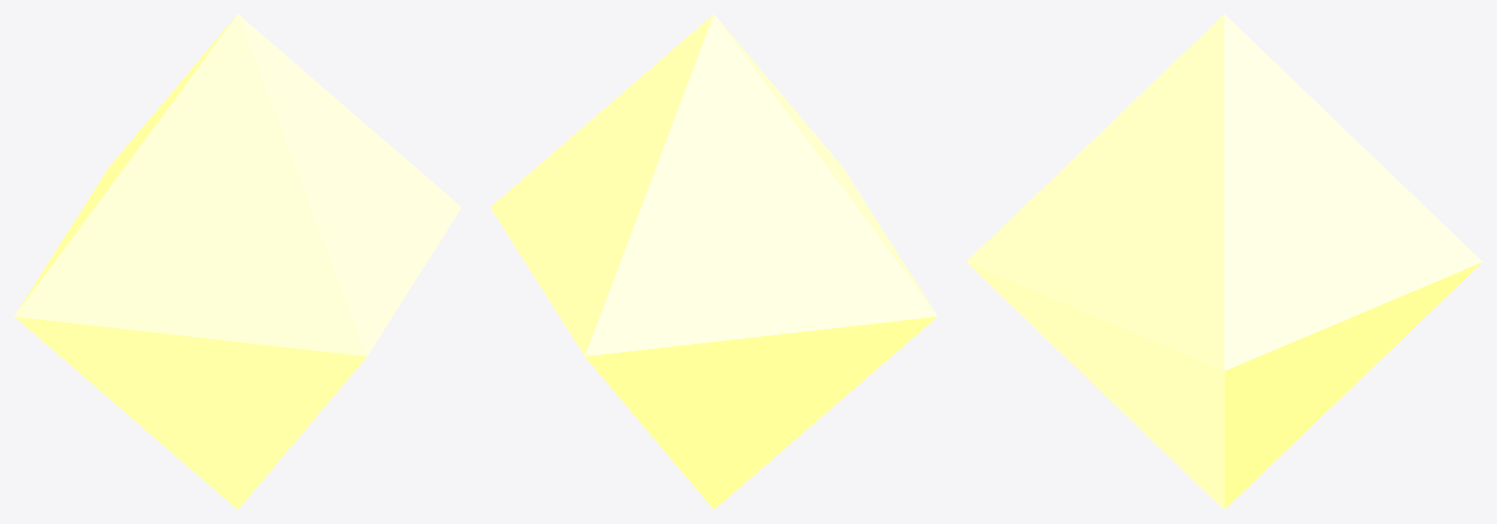
The model's file is marker.glb.
3 views of the same model, side by side, from view 1: azimuth 30°, elevation 25°; view 2: azimuth 150°, elevation 25°; view 3: azimuth 270°, elevation 25° (orthographic).
Parts seen in each view (by area): view 1: Up; view 2: Up; view 3: Up.
Boxes of the visible parts, x1=… form: Up: x1=14, y1=14, x2=461, y2=509; Up: x1=490, y1=14, x2=937, y2=509; Up: x1=966, y1=14, x2=1482, y2=509.
Bounding box in the file's own units: 0.34 × 0.36 × 0.34.
